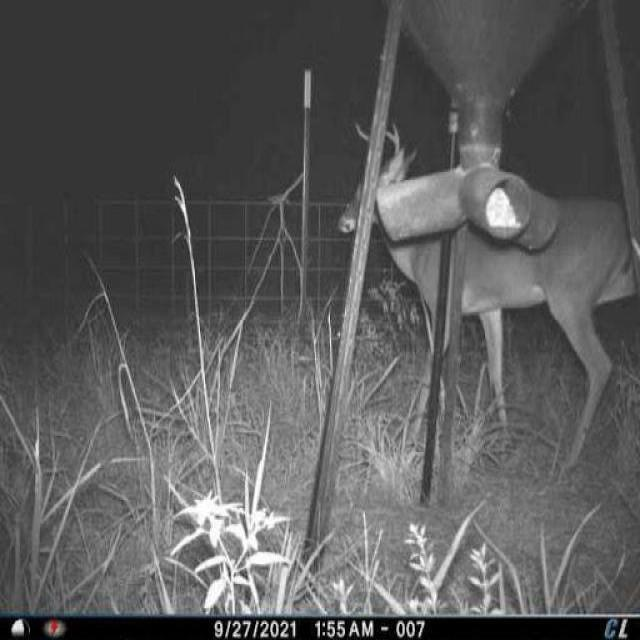deer: (337, 114, 638, 479)
